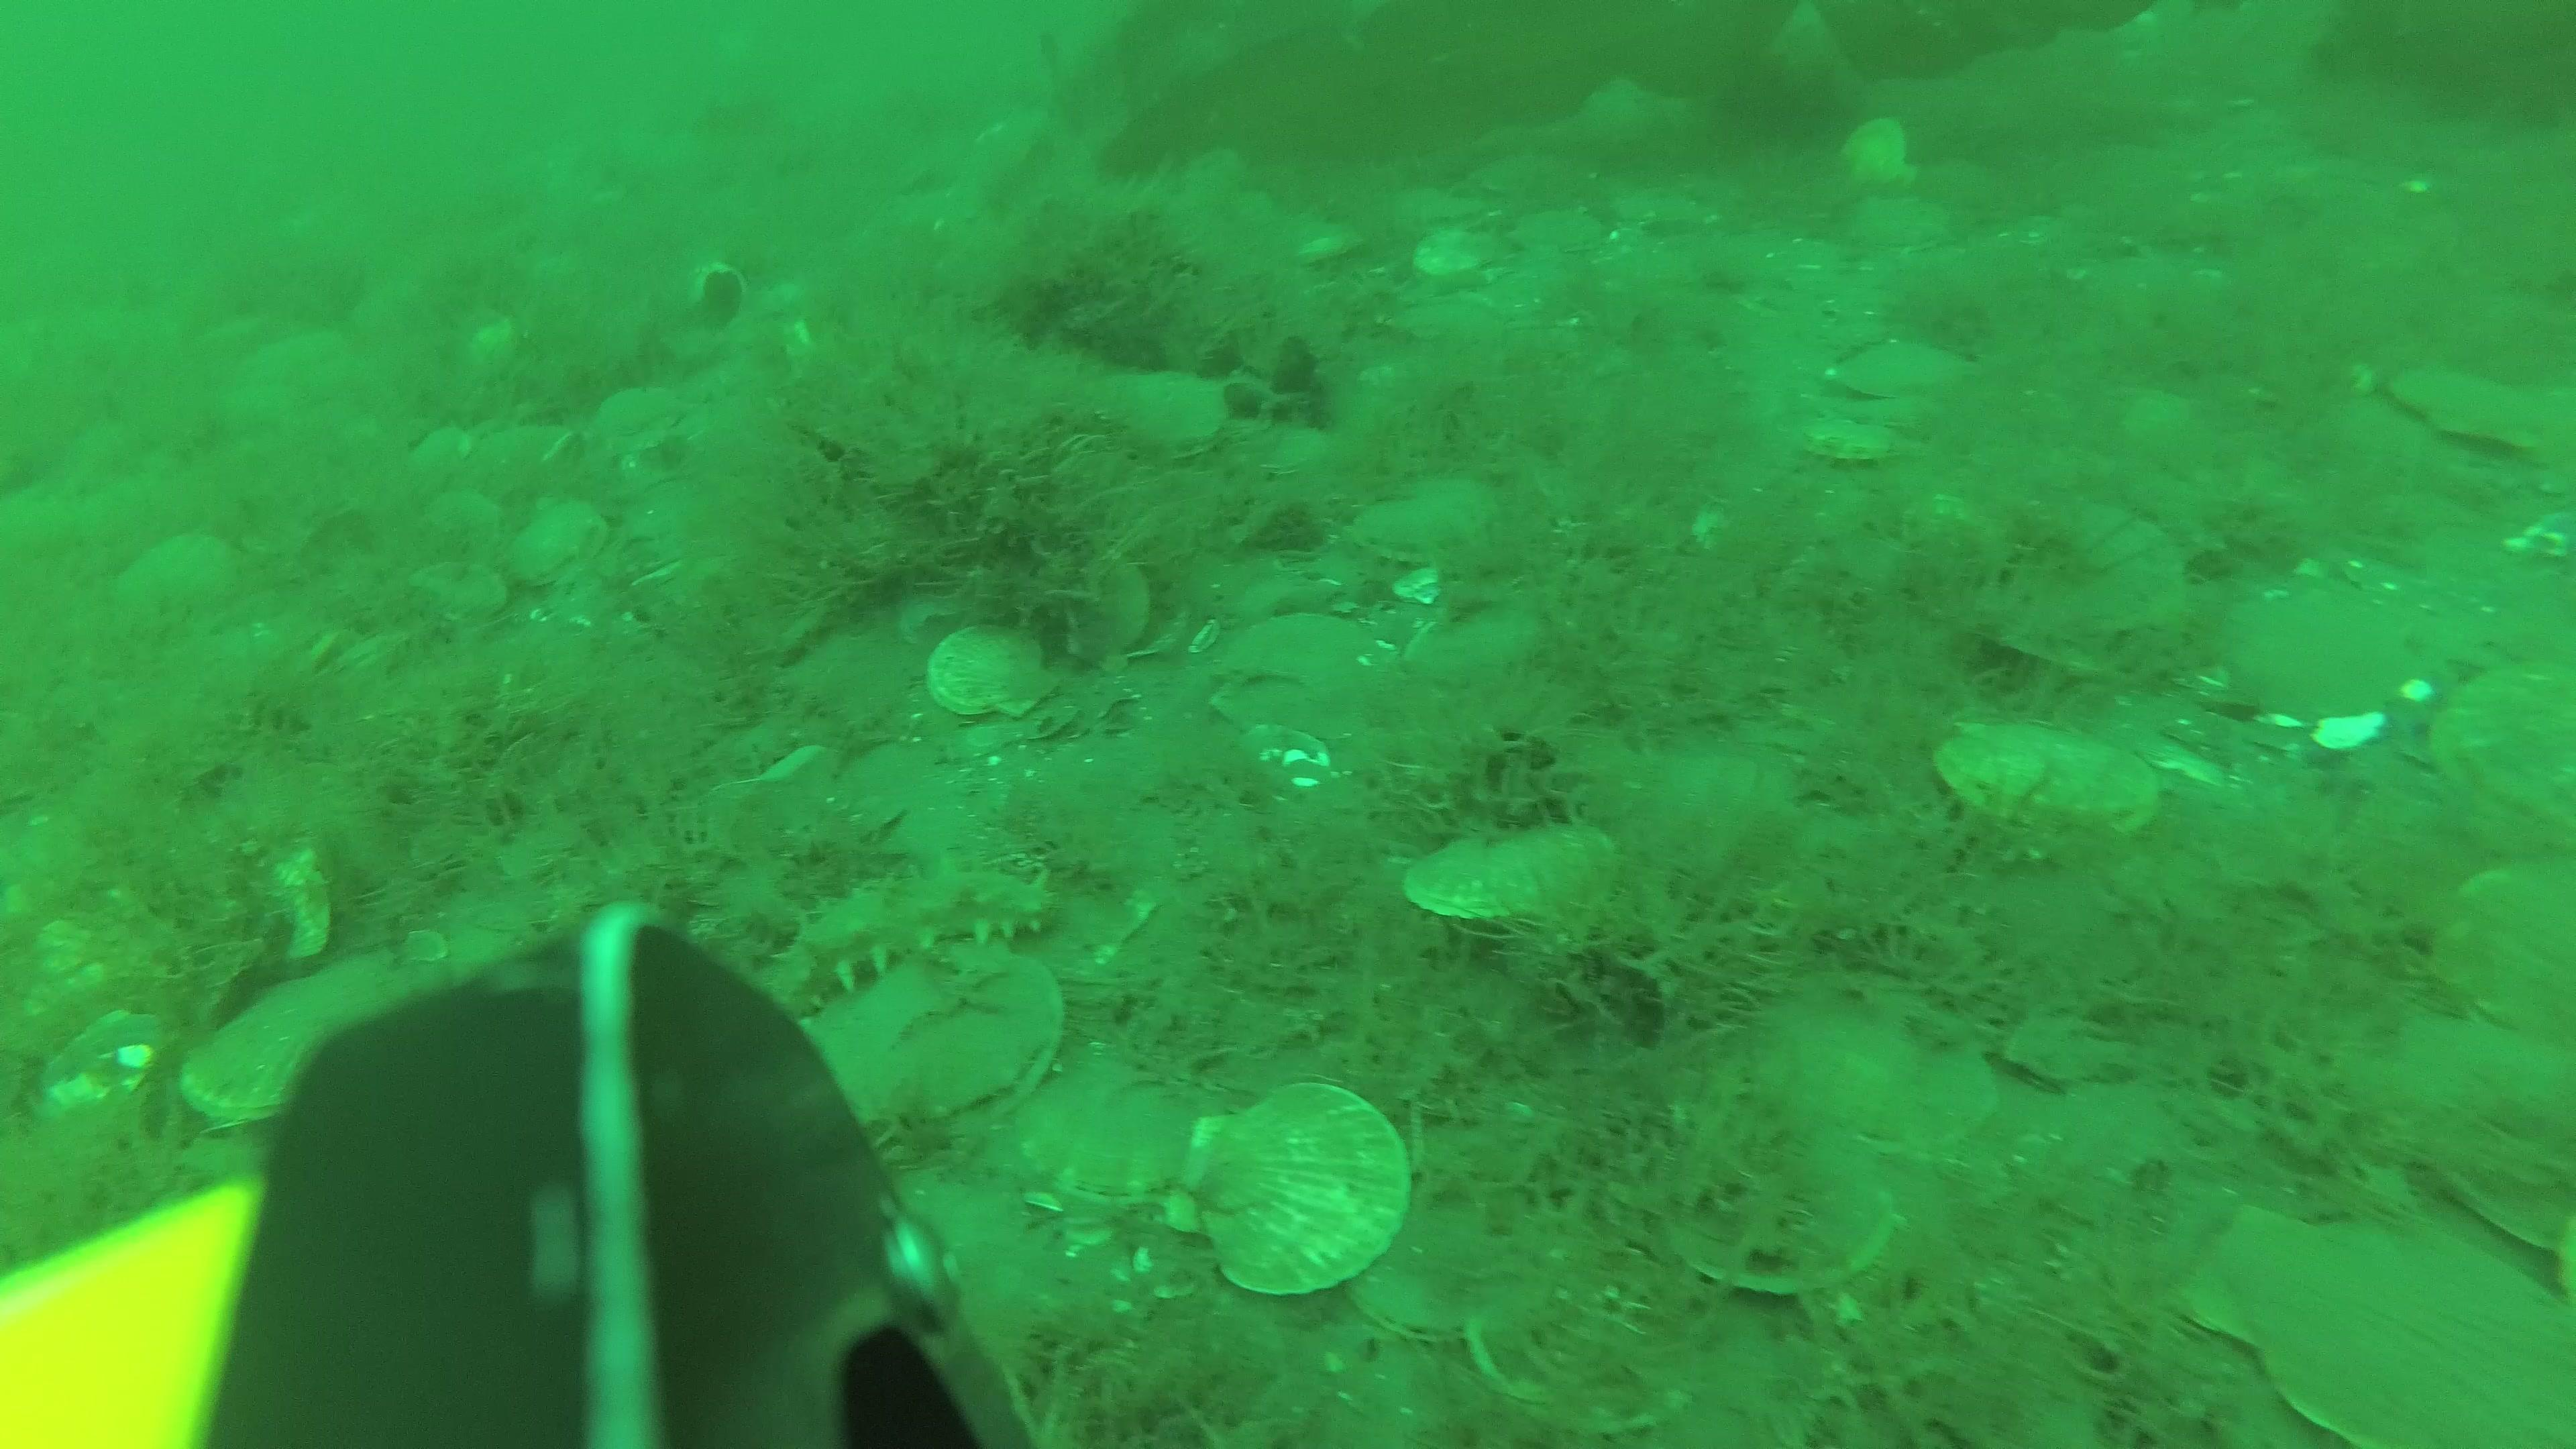holothurian: (748, 862, 1063, 994)
scallop: (2187, 1189, 2576, 1444), (1621, 1092, 1888, 1293), (2373, 1014, 2576, 1276), (1752, 962, 1992, 1166), (817, 966, 1081, 1143), (1479, 1235, 1718, 1422), (1194, 1088, 1408, 1288), (2204, 564, 2445, 727), (994, 1044, 1214, 1208), (1966, 508, 2190, 665), (188, 955, 400, 1122), (1355, 1177, 1560, 1343), (1932, 717, 2164, 856), (1403, 814, 1615, 938), (2434, 858, 2576, 1024), (2449, 662, 2576, 833), (1024, 543, 1162, 662), (2387, 364, 2551, 456), (110, 531, 248, 626), (1840, 327, 1967, 410), (932, 626, 1042, 718), (1104, 372, 1217, 458), (1412, 612, 1539, 683), (410, 556, 517, 635), (1359, 494, 1470, 568), (513, 506, 603, 591), (1844, 193, 1957, 257), (1805, 421, 1907, 485), (1615, 172, 1709, 235), (1838, 108, 1918, 182), (1520, 205, 1610, 269)
